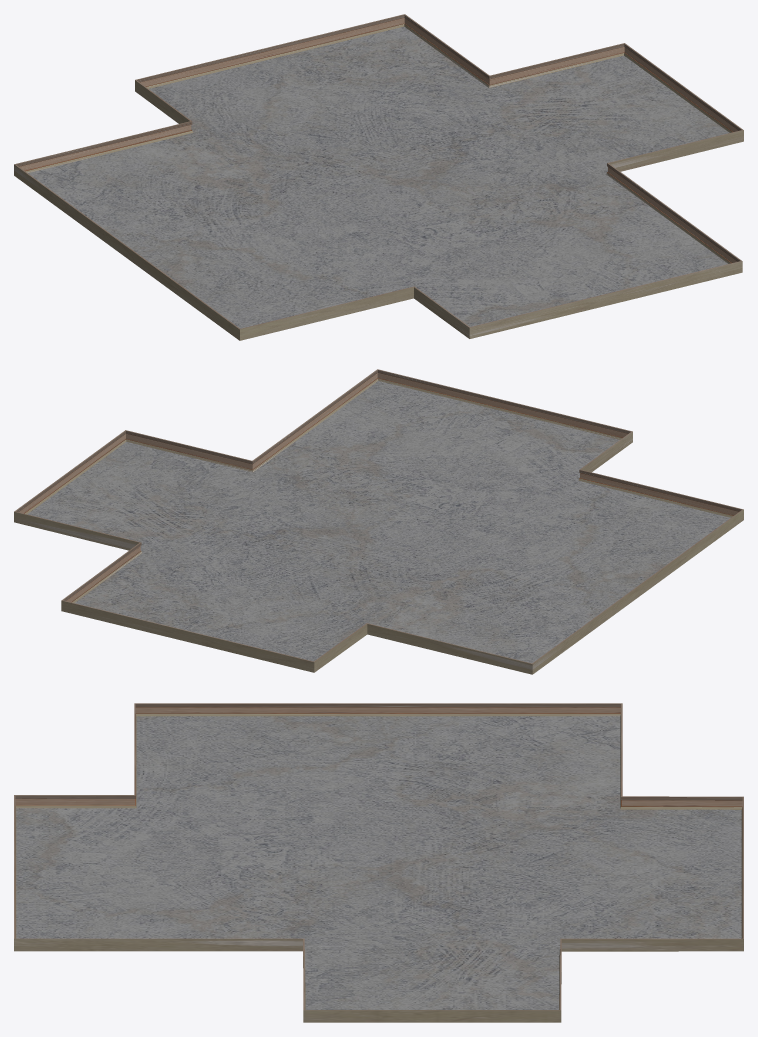
Rendered from car_web_env.glb.
3 views of the same model, one above another, from view 1: azimuth 30°, elevation 25°; view 2: azimuth 150°, elevation 25°; view 3: azimuth 270°, elevation 25° (orthographic). The views are drawn at different scales.
Parts seen in each view (by area): view 1: Floor, Walls2; view 2: Floor, Walls2; view 3: Floor, Walls2.
Part boxes in pixels (box(x1,y1,x2,y2)): Floor: box(28, 26, 729, 328); Walls2: box(14, 14, 743, 340); Floor: box(27, 381, 730, 663); Walls2: box(14, 369, 743, 674); Floor: box(16, 716, 741, 1009); Walls2: box(14, 703, 743, 1022).
Size of what is drawn, in the model's own units: 6462 by 120 by 6490.
2 materials, 2 textured.
